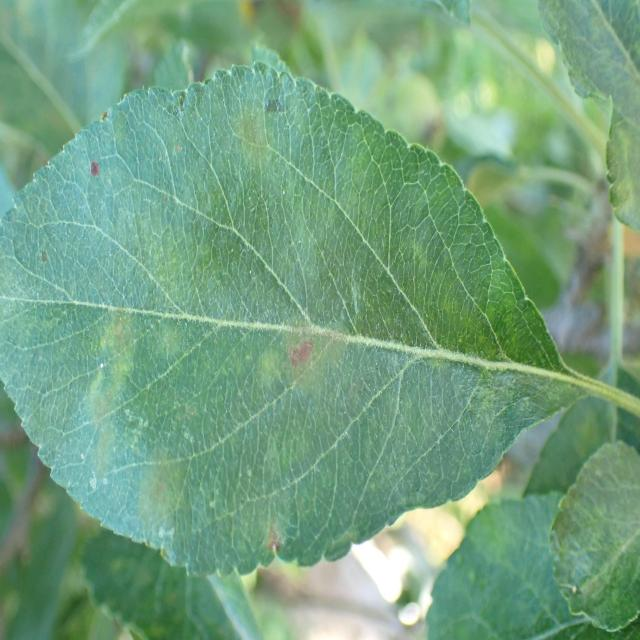scab: (38, 102, 526, 520), (546, 0, 640, 211), (549, 420, 640, 621)
